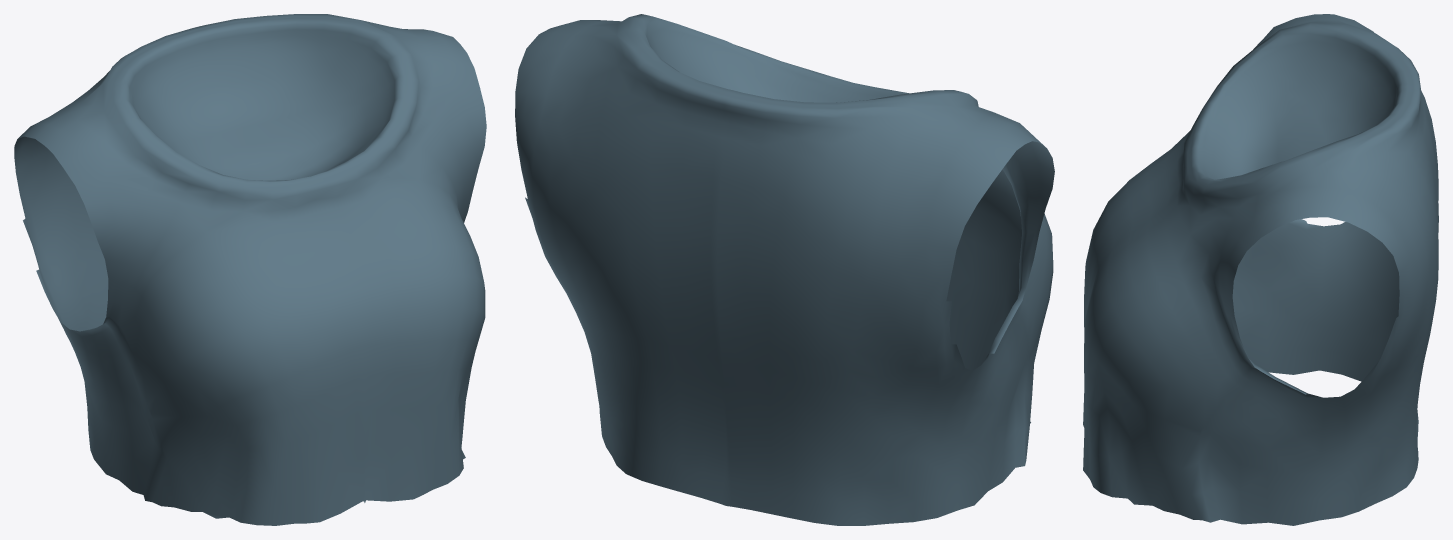
File: top3.fbx
The picture shows the model from 3 angles, left to right: view 1: azimuth 30°, elevation 25°; view 2: azimuth 150°, elevation 25°; view 3: azimuth 270°, elevation 25°; orthographic projection. The views are drawn at different scales.
Parts seen in each view (by area): view 1: t-shirt_l; view 2: t-shirt_l; view 3: t-shirt_l.
Boxes of the visible parts, bbox=[...] form: t-shirt_l: bbox=[14, 14, 486, 525]; t-shirt_l: bbox=[515, 14, 1054, 525]; t-shirt_l: bbox=[1083, 14, 1438, 525].
Size of the model in its own units: 24.32 by 20.31 by 17.95.
